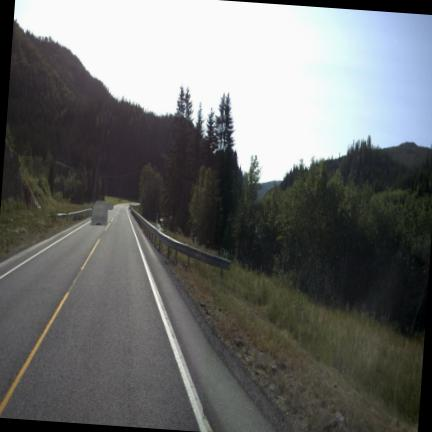Road: (0, 205, 275, 431)
